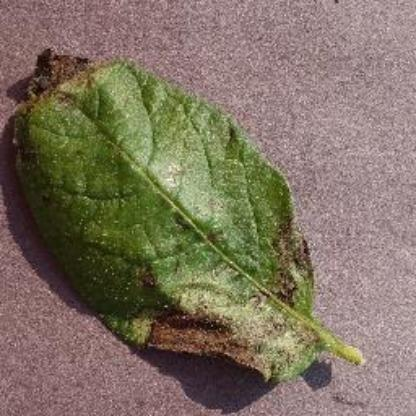Late-Blight: (13, 46, 369, 382)
